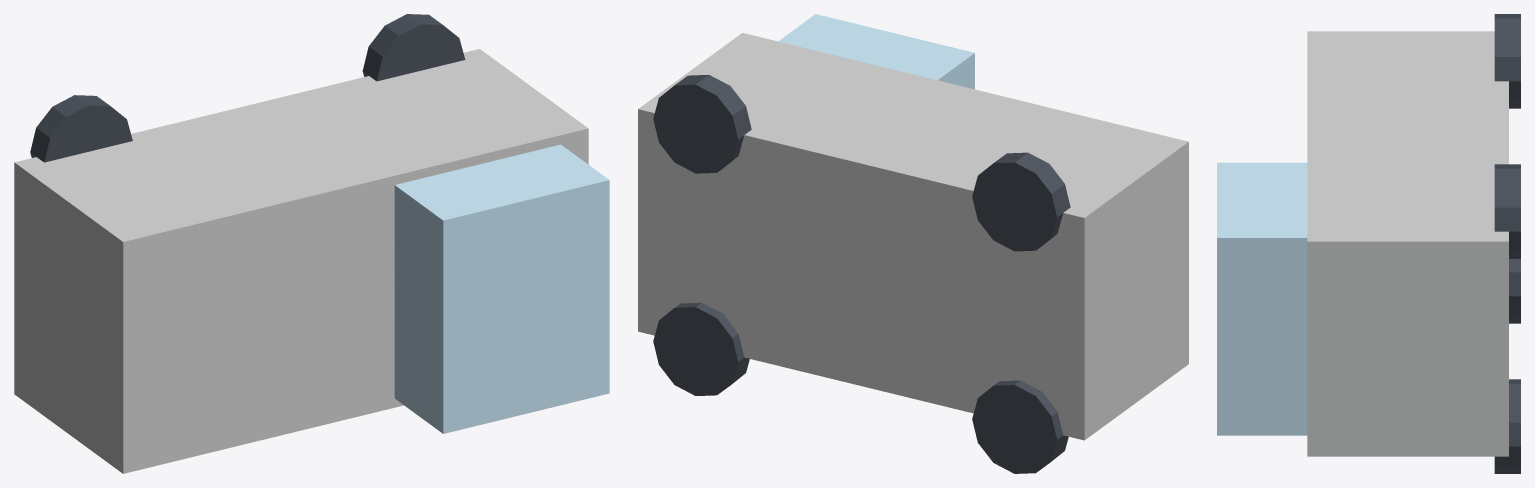
The model's file is delivery_van.glb.
3 renders of one model, left to right at view 1: azimuth 30°, elevation 25°; view 2: azimuth 150°, elevation 25°; view 3: azimuth 270°, elevation 25°, orthographic. The views are drawn at different scales.
Parts seen in each view (by area): view 1: van_0, cabin_1, wheel_5, wheel_3; view 2: van_0, wheel_3, wheel_5, cabin_1, wheel_2, wheel_4; view 3: van_0, cabin_1, wheel_5, wheel_3, wheel_4, wheel_2.
Boxes of the visible parts, x1,y1,x2,y2 form: van_0: (14,49,588,473); cabin_1: (394,144,609,433); wheel_5: (362,14,465,81); wheel_3: (30,95,132,162); van_0: (638,33,1188,440); wheel_3: (972,152,1070,251); wheel_5: (653,74,751,173); cabin_1: (778,14,974,89); wheel_2: (972,380,1068,473); wheel_4: (653,302,749,395); van_0: (1307,31,1508,456); cabin_1: (1217,162,1307,435); wheel_5: (1494,164,1520,258); wheel_3: (1494,14,1520,108); wheel_4: (1494,379,1520,473); wheel_2: (1509,259,1520,323).
Bounding box in the file's own units: 2.1 × 1.4 × 1.28.
